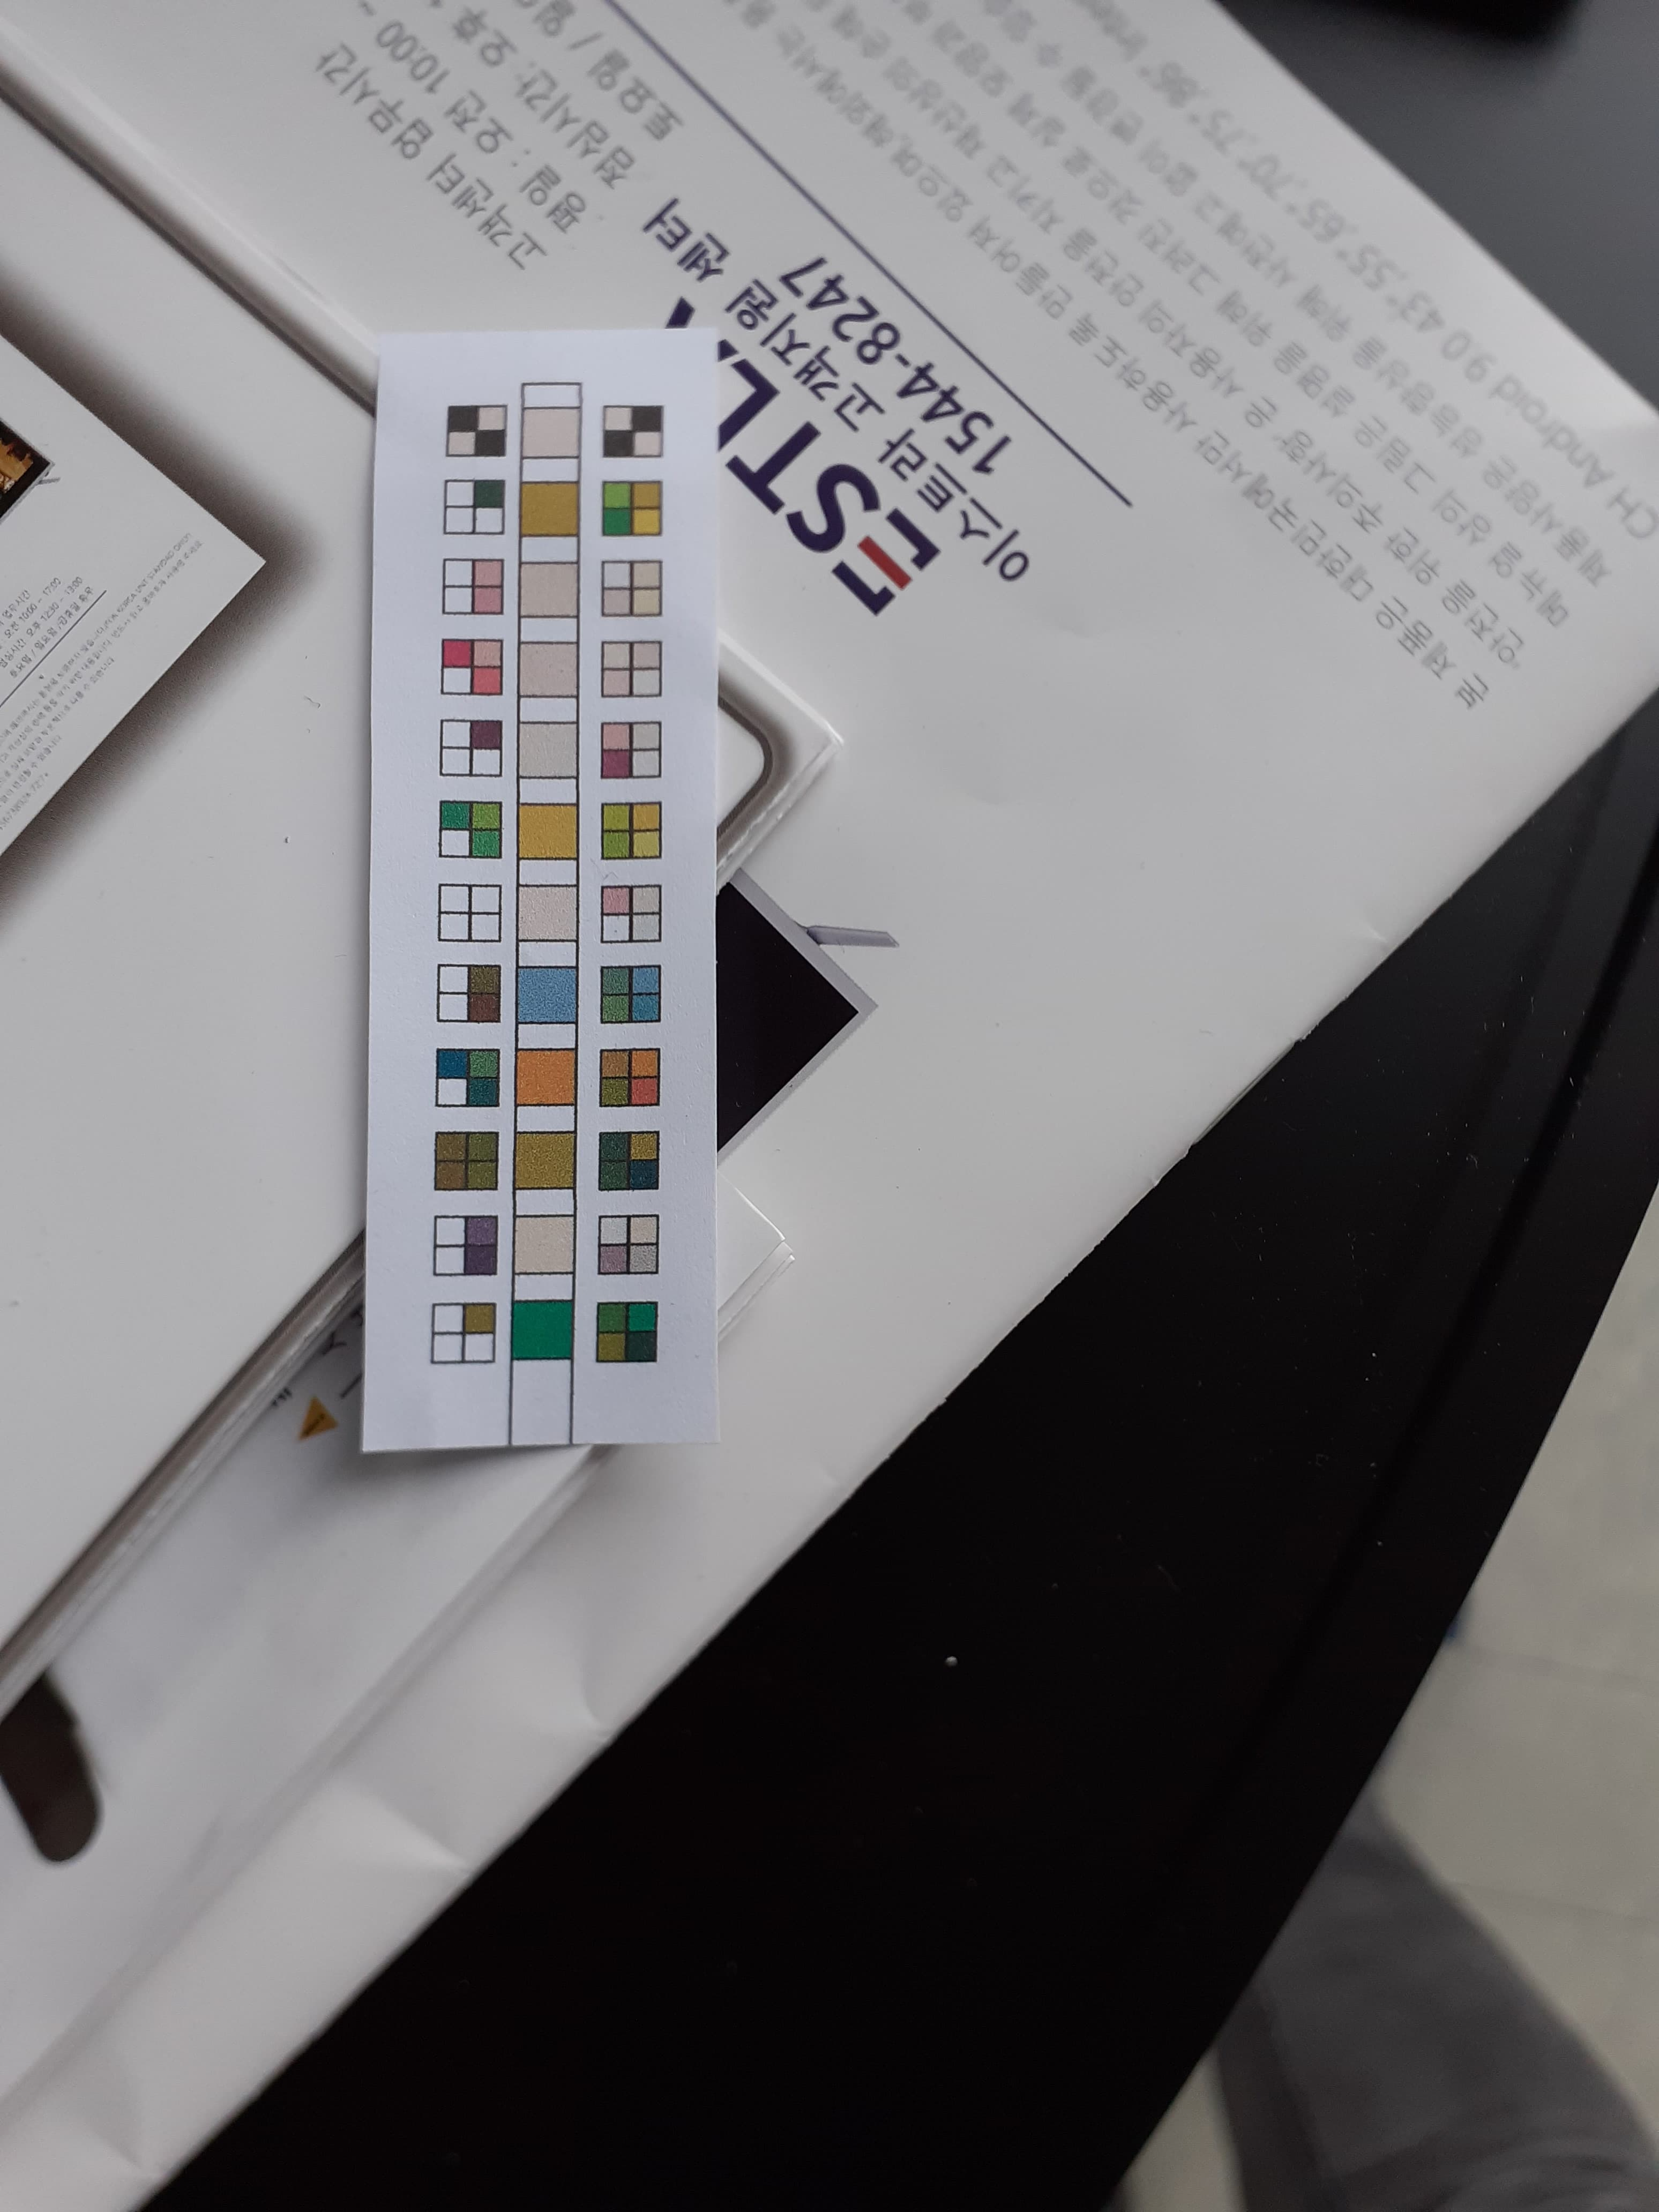tester: (369, 319, 714, 1453)
